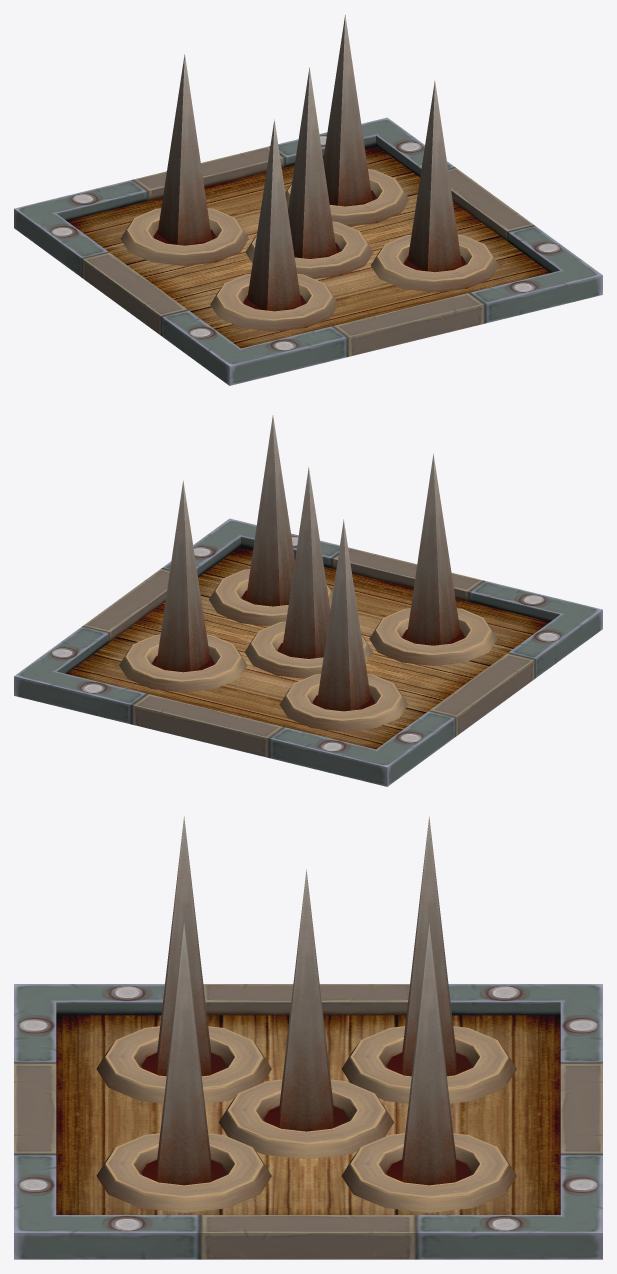
The model's file is trap_needle.DAE.
3 renders of one model, top to bottom at view 1: azimuth 30°, elevation 25°; view 2: azimuth 150°, elevation 25°; view 3: azimuth 270°, elevation 25°, orthographic. The views are drawn at different scales.
Visible parts, largest first — view 1: Trap_Needle, Needle; view 2: Trap_Needle, Needle; view 3: Trap_Needle, Needle.
Part boxes in pixels (box(x1,y1,x2,y2)): Trap_Needle: box(14, 117, 602, 385); Needle: box(157, 15, 461, 311); Trap_Needle: box(14, 518, 602, 786); Needle: box(156, 415, 460, 711); Trap_Needle: box(14, 984, 602, 1259); Needle: box(157, 816, 456, 1184).
Size of the model in its own units: 100 by 50.85 by 100.
Materials: 1 (1 with a texture image).
